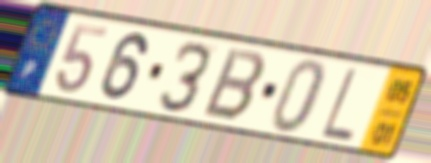0: (269, 57, 327, 136)
3: (157, 40, 214, 115)
5: (54, 20, 112, 95)
6: (98, 30, 152, 104)
B: (199, 44, 270, 124)
L: (318, 64, 359, 145)
